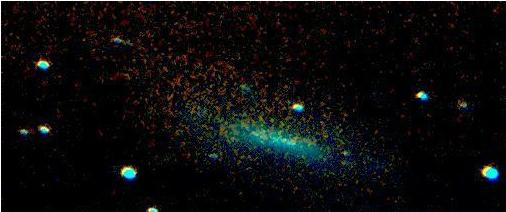star: (332, 137, 362, 167)
